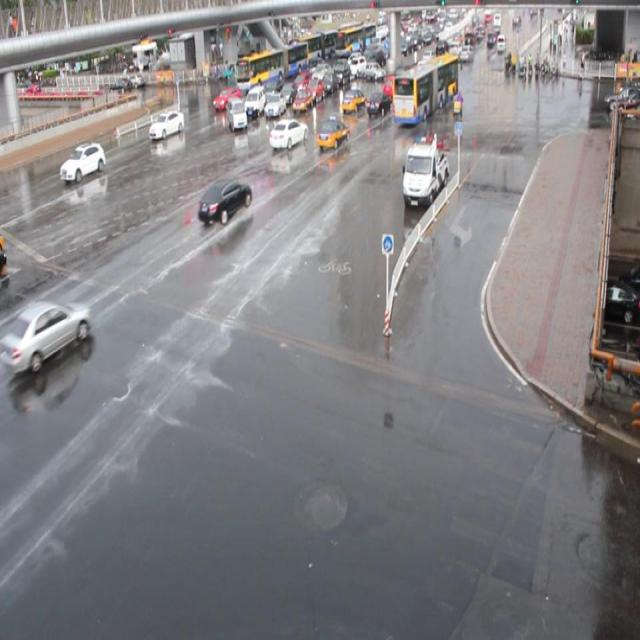bus: (402, 138, 449, 207)
car: (1, 297, 92, 369), (196, 177, 252, 225), (60, 142, 106, 182), (269, 118, 309, 150), (316, 115, 350, 148), (149, 110, 184, 139), (366, 90, 392, 116), (213, 85, 242, 108), (341, 86, 366, 112), (391, 85, 413, 113), (291, 88, 313, 115), (265, 93, 287, 118), (266, 74, 288, 98), (304, 78, 324, 102), (279, 81, 298, 104), (291, 73, 311, 94), (381, 75, 399, 97)
truck: (245, 86, 268, 118), (226, 95, 246, 131)
van: (390, 53, 457, 124)
